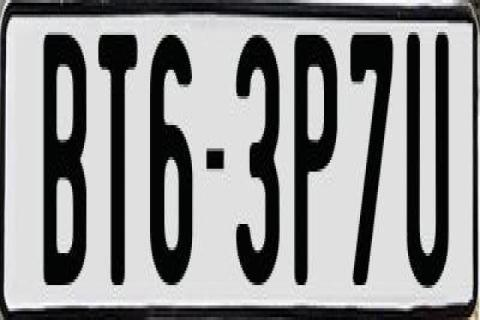0: (148, 32, 196, 291), (234, 29, 278, 294), (348, 32, 391, 288)
B: (42, 26, 92, 294)
P: (290, 35, 338, 291)
T: (96, 29, 140, 288)
U: (407, 26, 453, 300)
